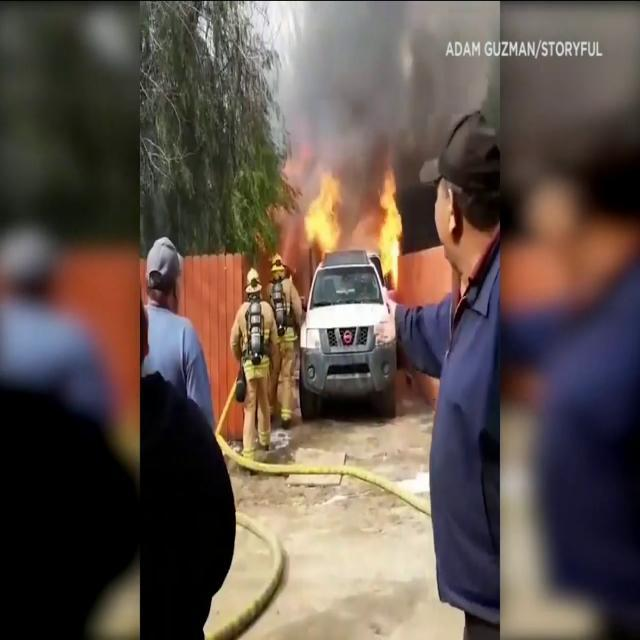Fire: (301, 170, 345, 258), (376, 167, 406, 294)
Smoke: (269, 3, 493, 180), (507, 410, 640, 640)
